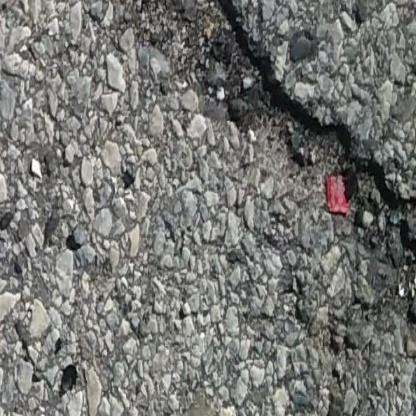Cracks: (118, 0, 416, 284)
